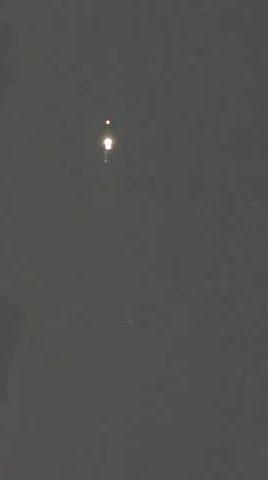Plane: (90, 102, 127, 174)
